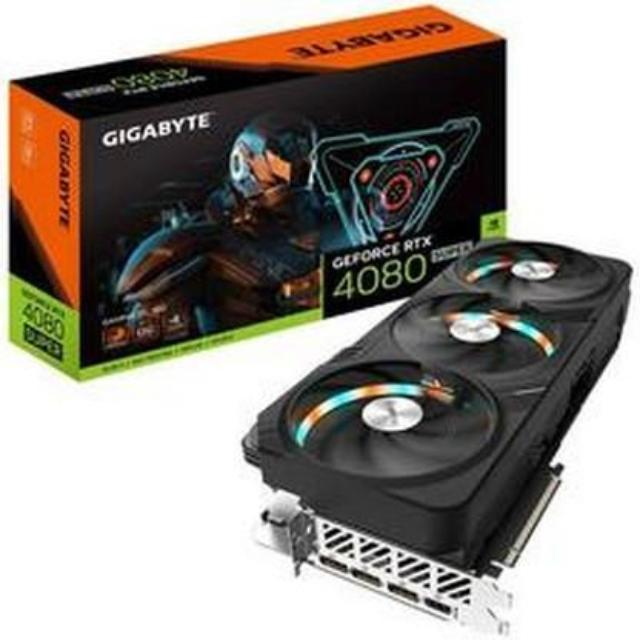GPU: (248, 243, 634, 577)
